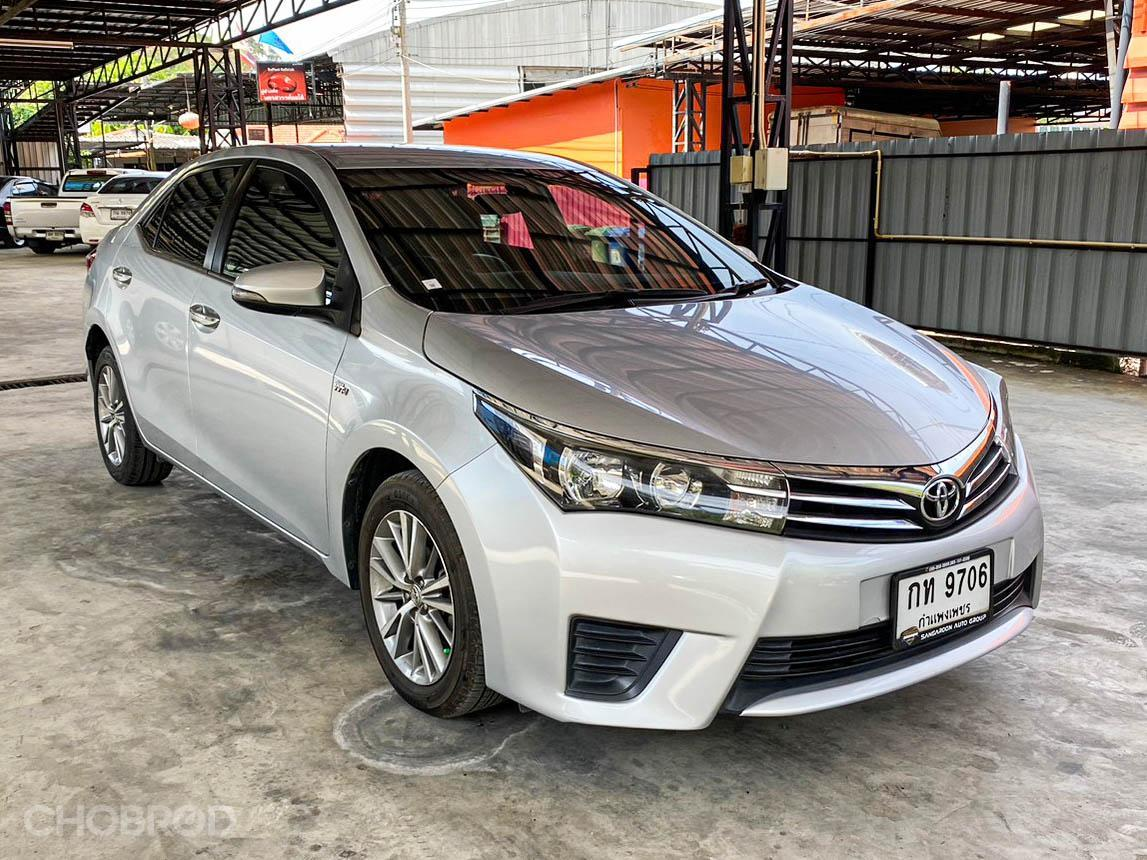license-plate: (874, 532, 1001, 648)
